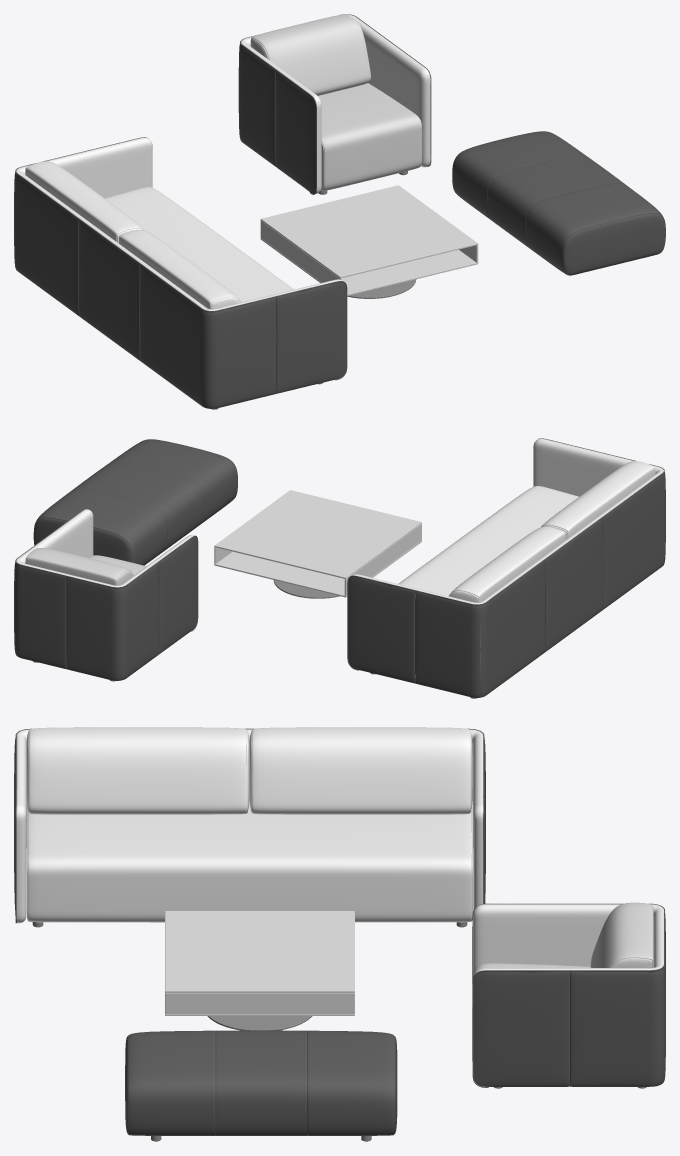
File: chair.fbx
The picture shows the model from 3 angles, top to bottom: view 1: azimuth 30°, elevation 25°; view 2: azimuth 150°, elevation 25°; view 3: azimuth 270°, elevation 25°; orthographic projection. The views are drawn at different scales.
Visible parts, largest first — view 1: chair.001; view 2: chair.001; view 3: chair.001.
Boxes of the visible parts, x1,y1,x2,y2 form: chair.001: (14,14,665,409); chair.001: (14,438,665,698); chair.001: (14,727,665,1141).
Size of the model in its own units: 331 by 70.62 by 309.
Materials: 6 (4 with a texture image).
